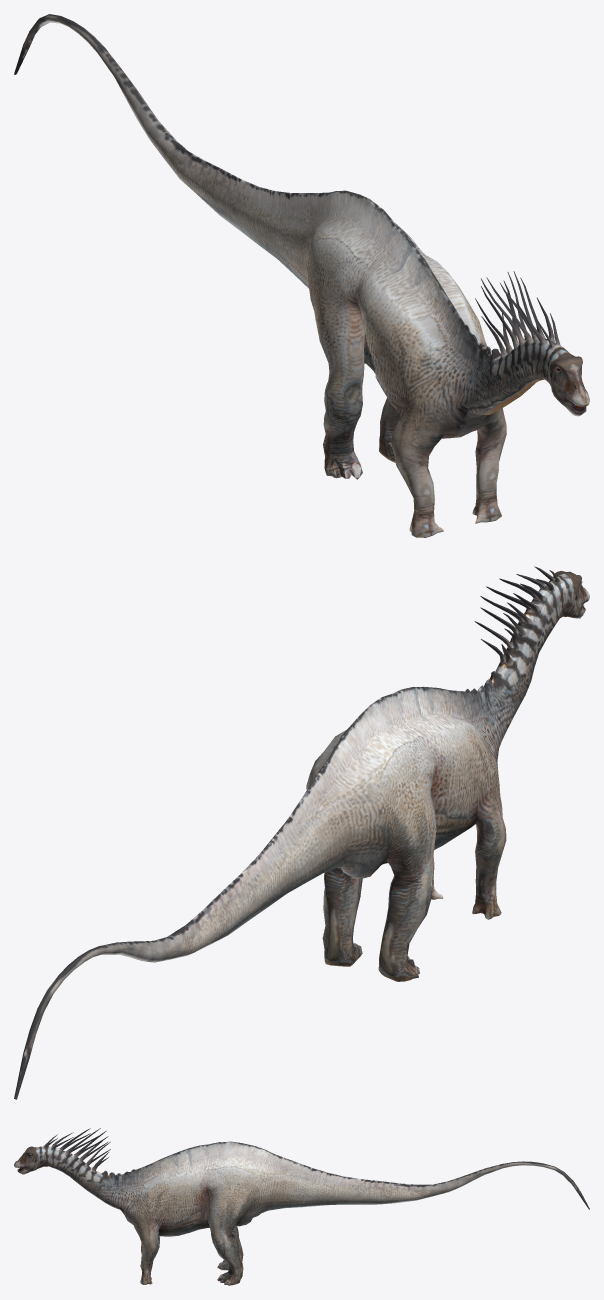
The model's file is Amargasaurus.glb.
3 views of the same model, one above another, from view 1: azimuth 30°, elevation 25°; view 2: azimuth 150°, elevation 25°; view 3: azimuth 270°, elevation 25° (orthographic). The views are drawn at different scales.
Visible parts, largest first — view 1: amargasaurus low; view 2: amargasaurus low; view 3: amargasaurus low.
Part boxes in pixels (bbox=[...]): amargasaurus low: bbox=[14, 14, 589, 537]; amargasaurus low: bbox=[14, 566, 589, 1099]; amargasaurus low: bbox=[14, 1128, 589, 1285].
Size of the model in its own units: 1.72 by 4.16 by 15.02.
1 material, 1 textured.
